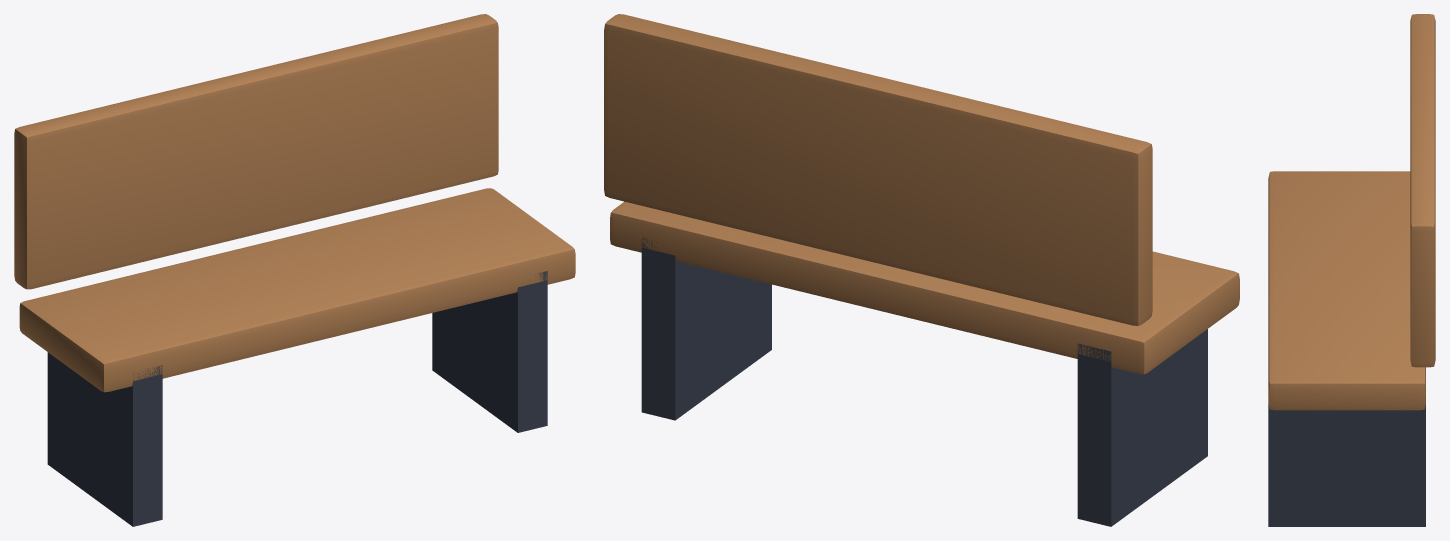
File: bench.glb
3 views of the same model, side by side, from view 1: azimuth 30°, elevation 25°; view 2: azimuth 150°, elevation 25°; view 3: azimuth 270°, elevation 25° (orthographic). The views are drawn at different scales.
Visible parts, largest first — view 1: bench; view 2: bench; view 3: bench.
Part boxes in pixels (bbox=[...]): bench: bbox=[14, 14, 575, 526]; bench: bbox=[604, 14, 1239, 526]; bench: bbox=[1268, 14, 1435, 526].
Size of the model in its own units: 1.6 by 1.1 by 0.53.
